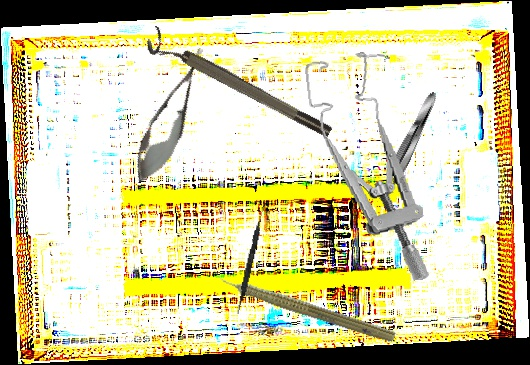Fixation Ring: (142, 25, 335, 149)
Handpiece: (204, 264, 399, 346)
Micro Scissor: (123, 40, 219, 191)
Spatula Surgical: (235, 202, 267, 315)
Speculum: (303, 47, 432, 291)
Tissue Forceps: (374, 89, 443, 204)
